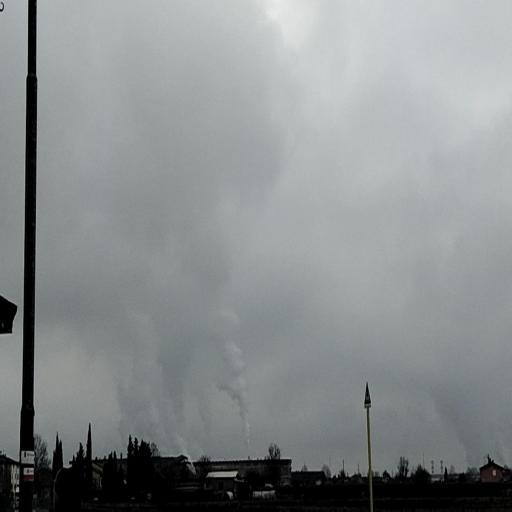leakage: (110, 232, 255, 475)
